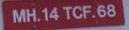character: (12, 8, 26, 23), (60, 4, 73, 19), (71, 5, 83, 19), (48, 6, 59, 21), (25, 7, 36, 21), (96, 4, 107, 18), (82, 4, 92, 19), (105, 2, 115, 17), (41, 7, 48, 21)
